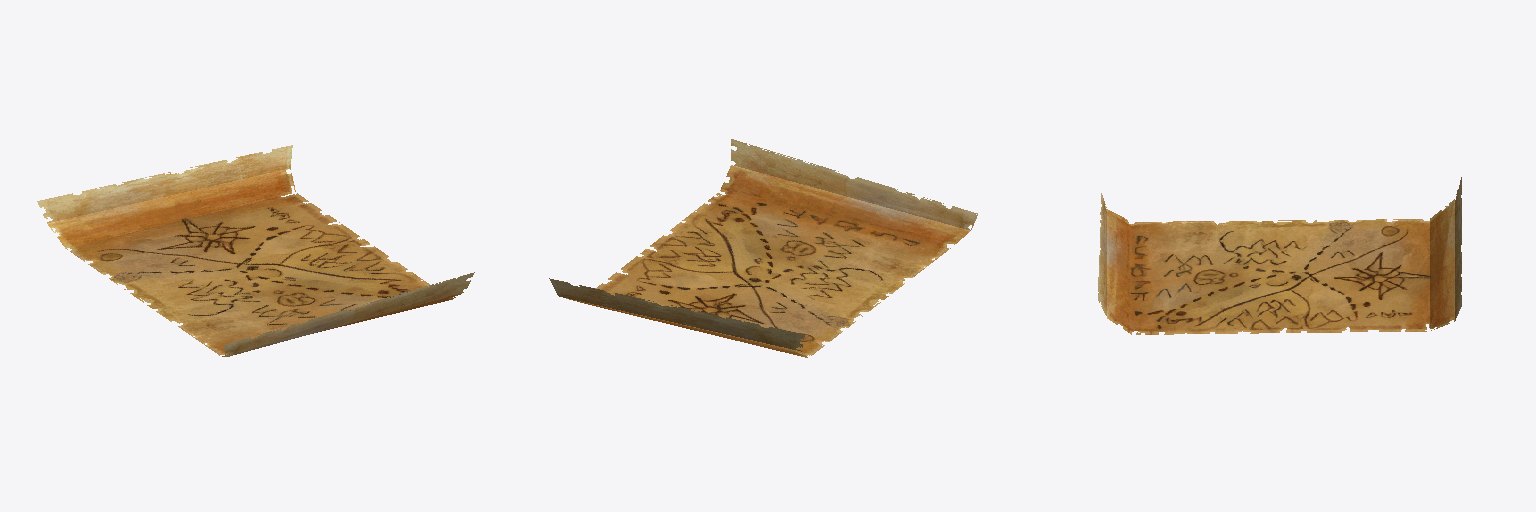
The picture shows the model from 3 angles: view 1: azimuth 30°, elevation 25°; view 2: azimuth 150°, elevation 25°; view 3: azimuth 270°, elevation 25°; orthographic projection.
Parts seen in each view (by area): view 1: scrollmap; view 2: scrollmap; view 3: scrollmap.
Boxes of the visible parts, x1=… form: scrollmap: x1=37, y1=145, x2=474, y2=356; scrollmap: x1=549, y1=139, x2=977, y2=357; scrollmap: x1=1098, y1=177, x2=1461, y2=334.
Size of the model in its own units: 0.8201 by 0.1185 by 1.01.
Materials: 1 (1 with a texture image).